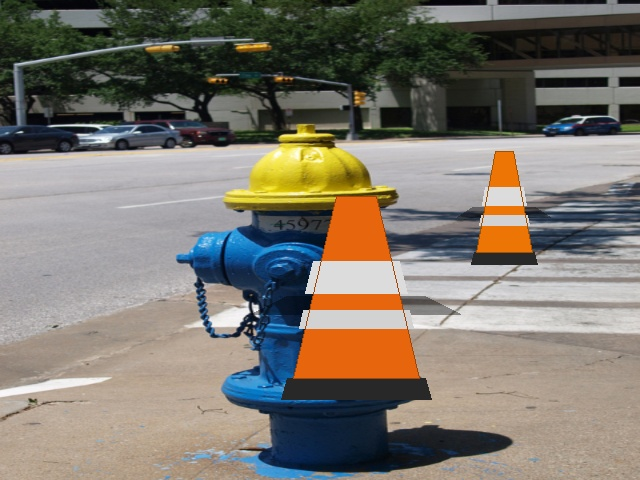traffic-cone: (281, 196, 431, 399), (471, 151, 537, 264)
